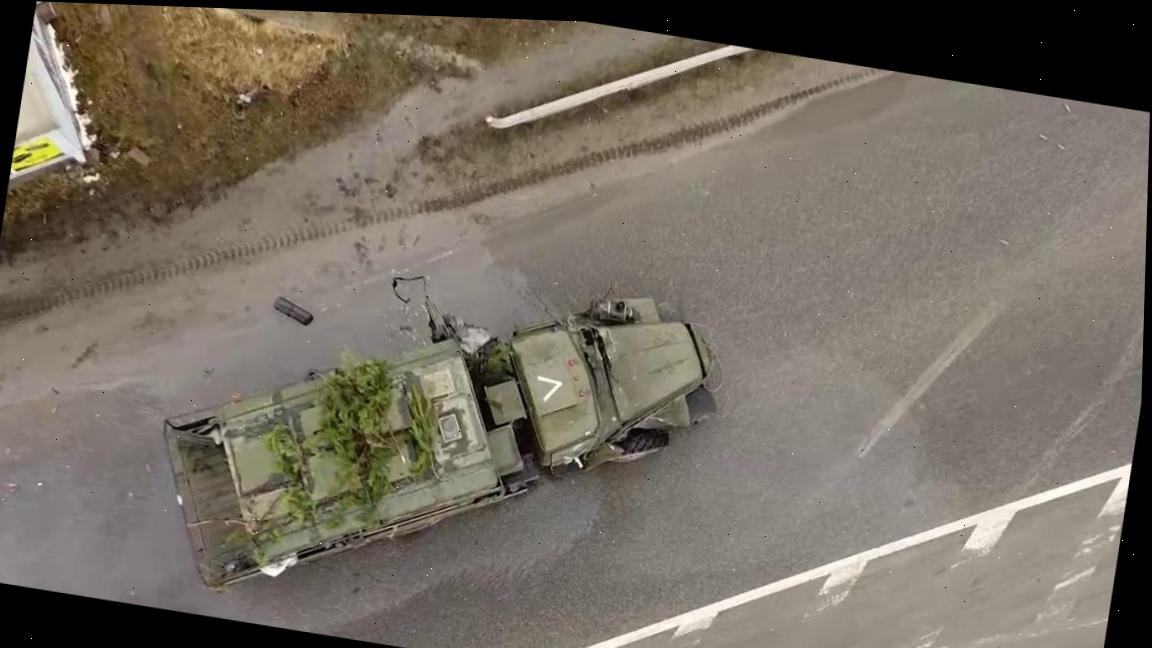truck: (136, 220, 735, 648)
